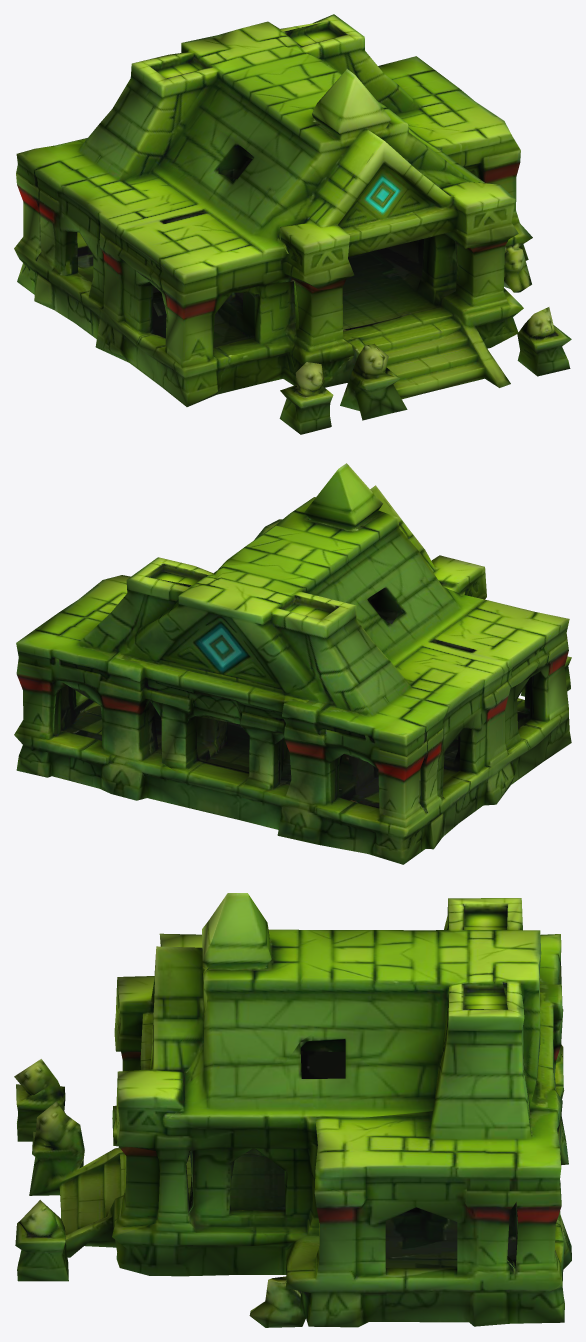
Rendered from Temple.glb.
The picture shows the model from 3 angles, top to bottom: view 1: azimuth 30°, elevation 25°; view 2: azimuth 150°, elevation 25°; view 3: azimuth 270°, elevation 25°; orthographic projection. The views are drawn at different scales.
Visible parts, largest first — view 1: Mesh1.0; view 2: Mesh1.0; view 3: Mesh1.0.
Boxes of the visible parts, box(x1,y1,x2,y2) form: Mesh1.0: box(14, 14, 571, 434); Mesh1.0: box(14, 463, 571, 864); Mesh1.0: box(14, 893, 571, 1327).
Size of the model in its own units: 1.91 by 1.19 by 1.86.
1 material, 1 textured.
